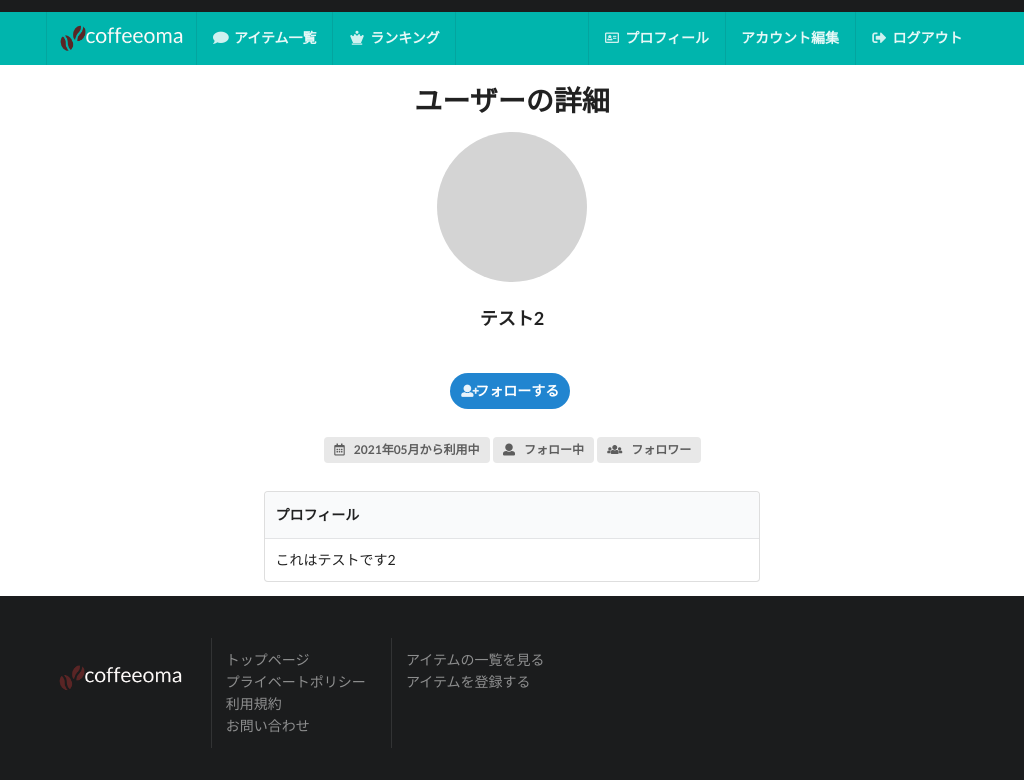
it: Create › successfully
Click the button "フォローする".
click(510, 391)  # box [450,373,570,409]
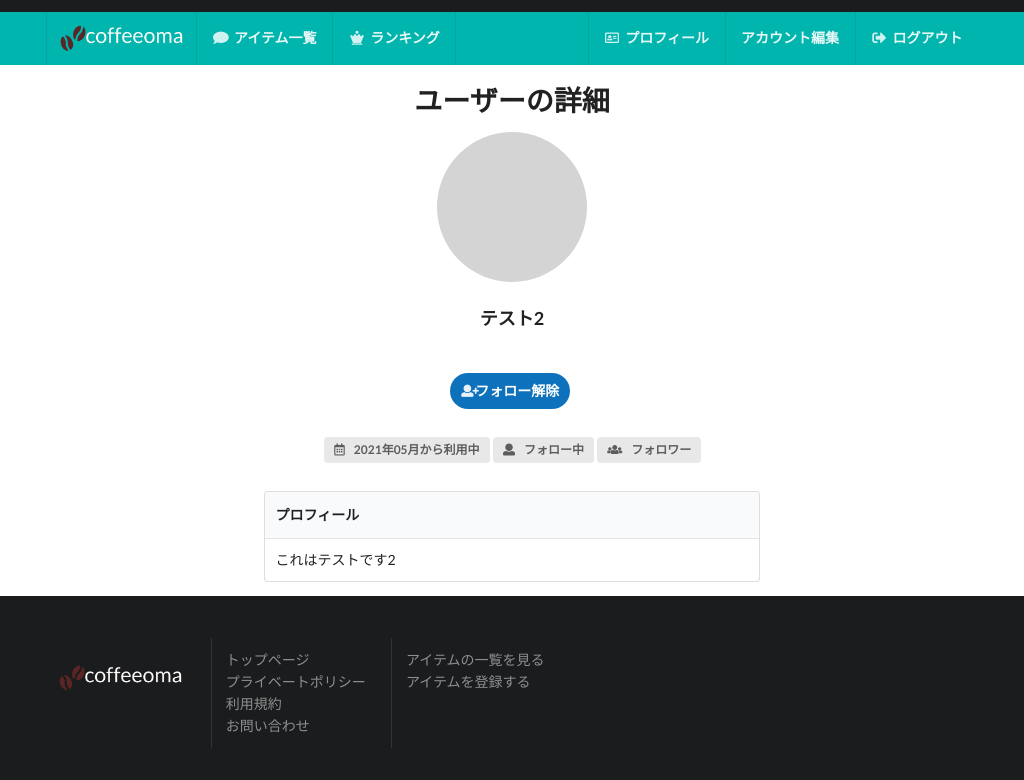
Expected: the button "フォロー解除" is shown, [450,373,570,409]
